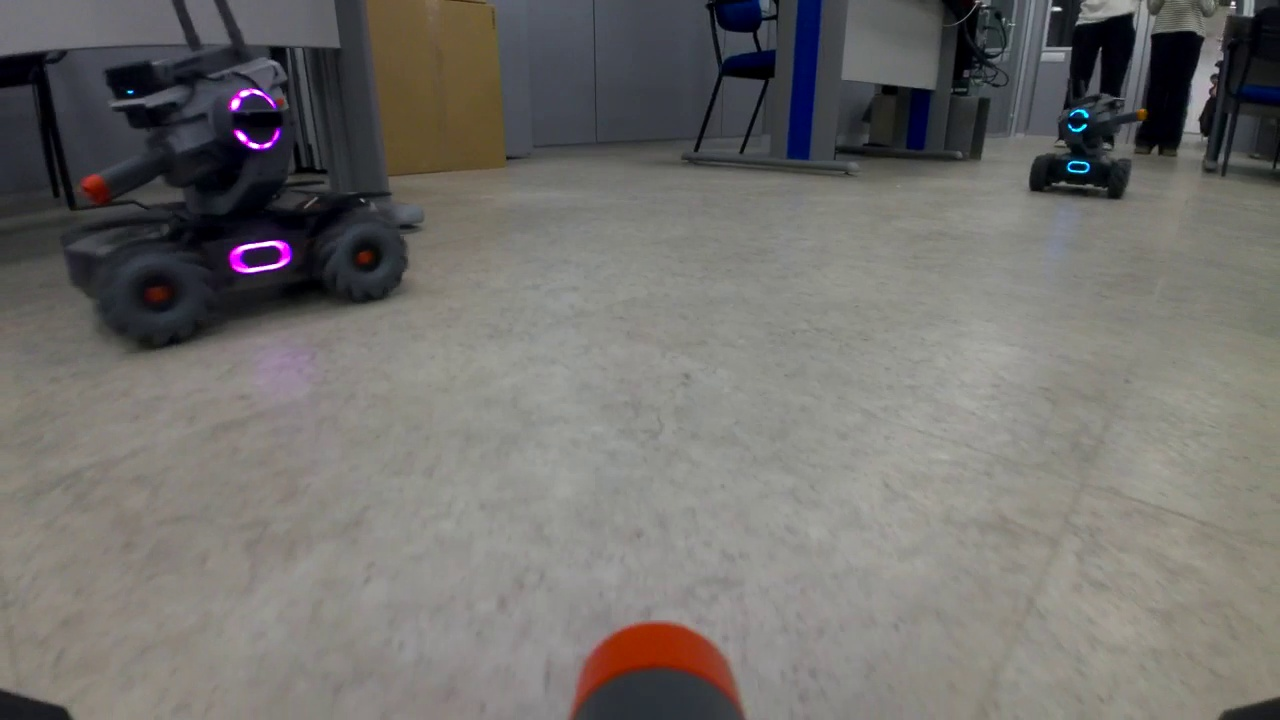robot: (61, 44, 412, 349), (1025, 96, 1147, 199)
